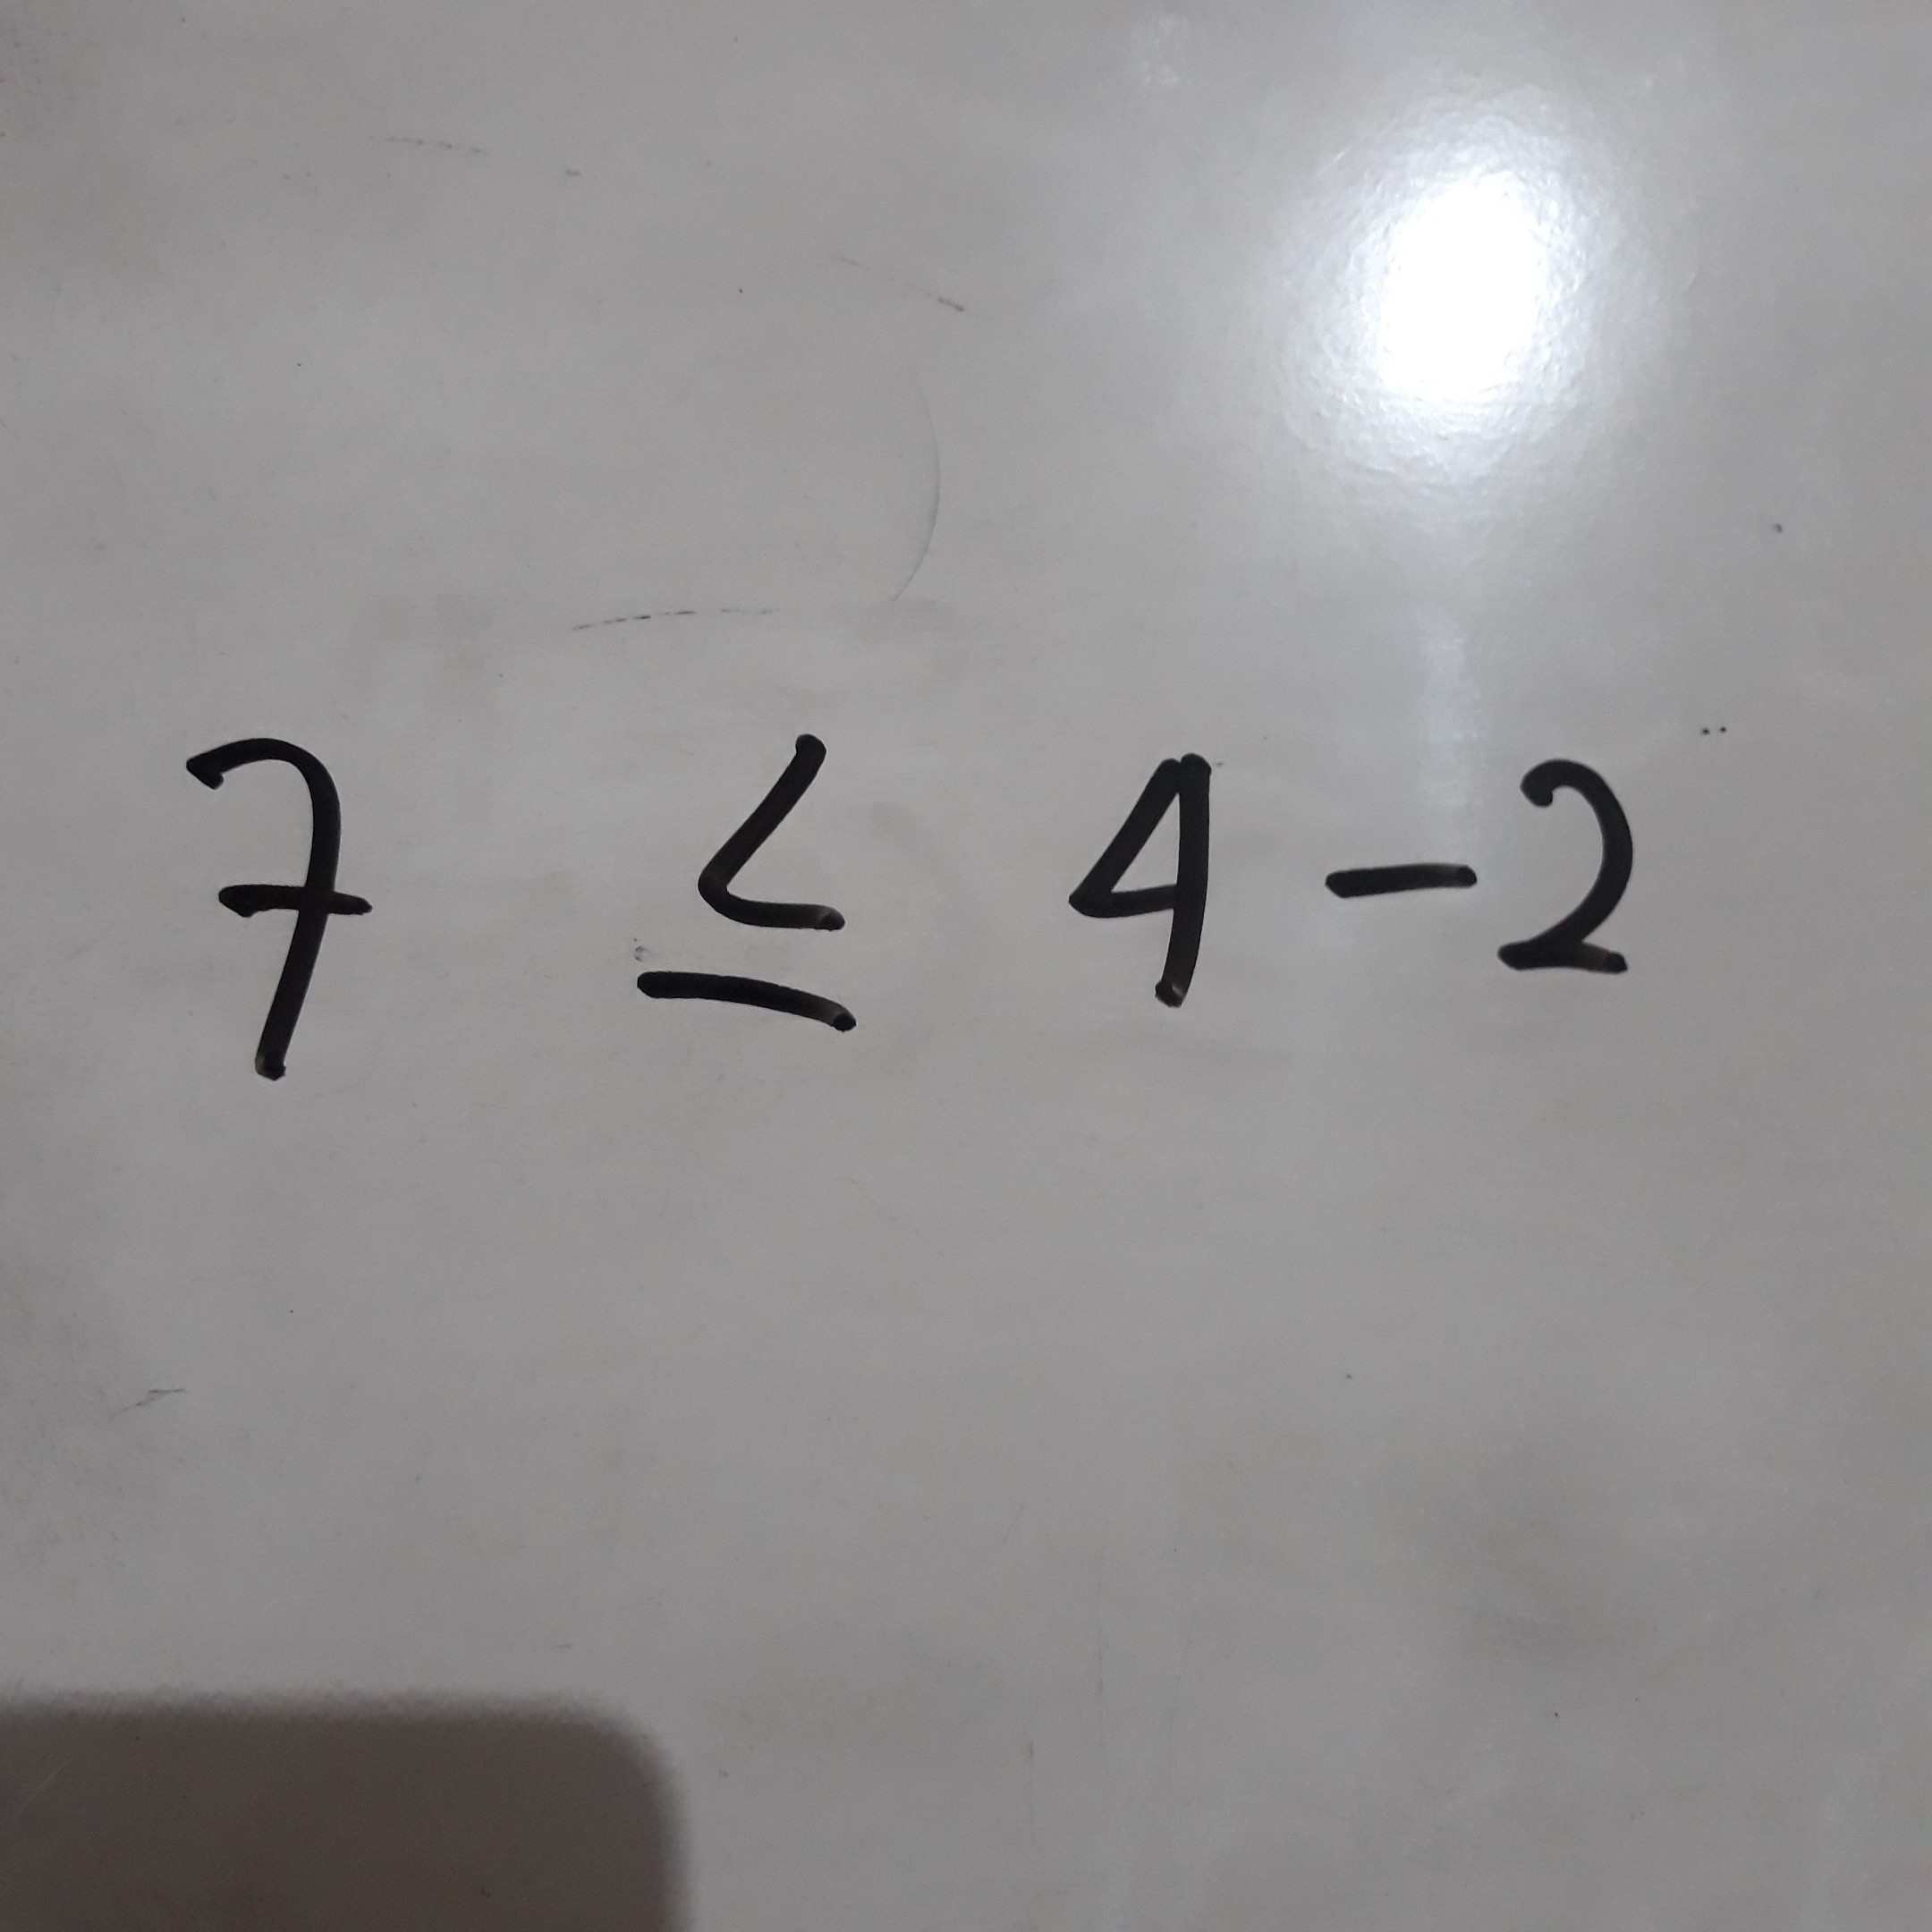lessthan-equal: (626, 701, 887, 1059)
min: (1310, 837, 1495, 918)
num2: (1500, 734, 1679, 1000)
num4: (1047, 744, 1273, 1024)
num7: (157, 724, 404, 1095)
